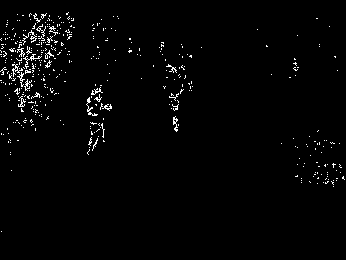person: (85, 84, 112, 154)
